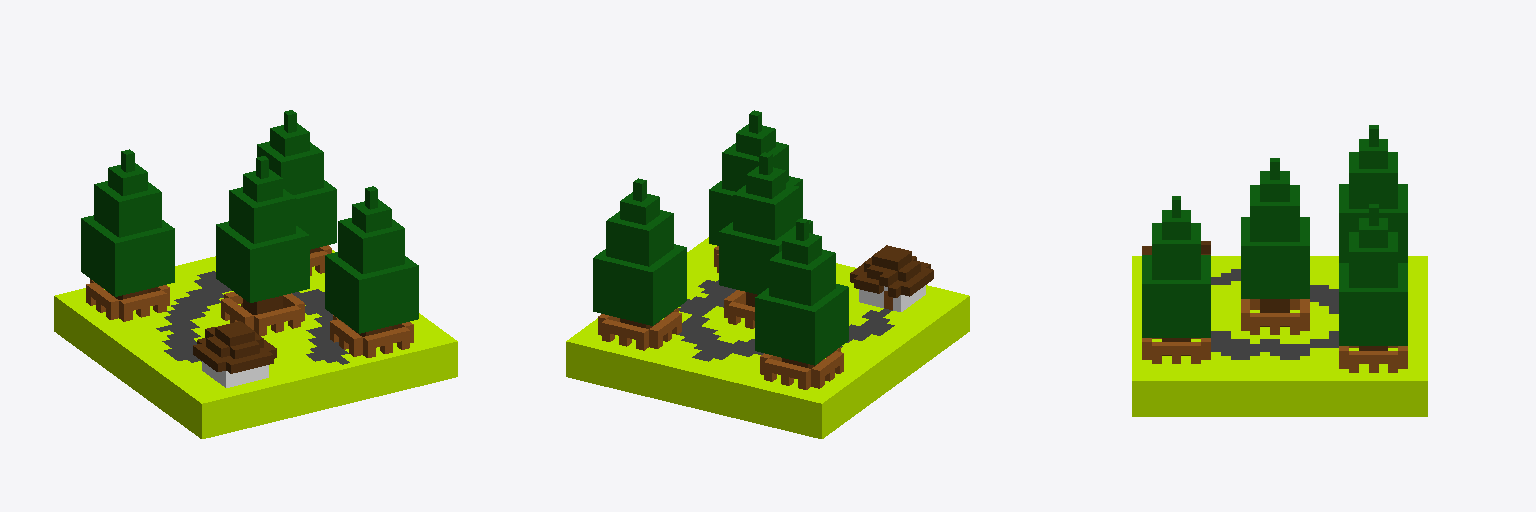
3 renders of one model, left to right at view 1: azimuth 30°, elevation 25°; view 2: azimuth 150°, elevation 25°; view 3: azimuth 270°, elevation 25°, orthographic.
Visible parts, largest first — view 1: object 1; view 2: object 1; view 3: object 1.
Part boxes in pixels (bbox=[...]): object 1: bbox=[54, 110, 457, 438]; object 1: bbox=[566, 110, 969, 438]; object 1: bbox=[1132, 125, 1427, 416].
Size of the model in its own units: 3 by 2.2 by 3.
1 materials, 1 textured.